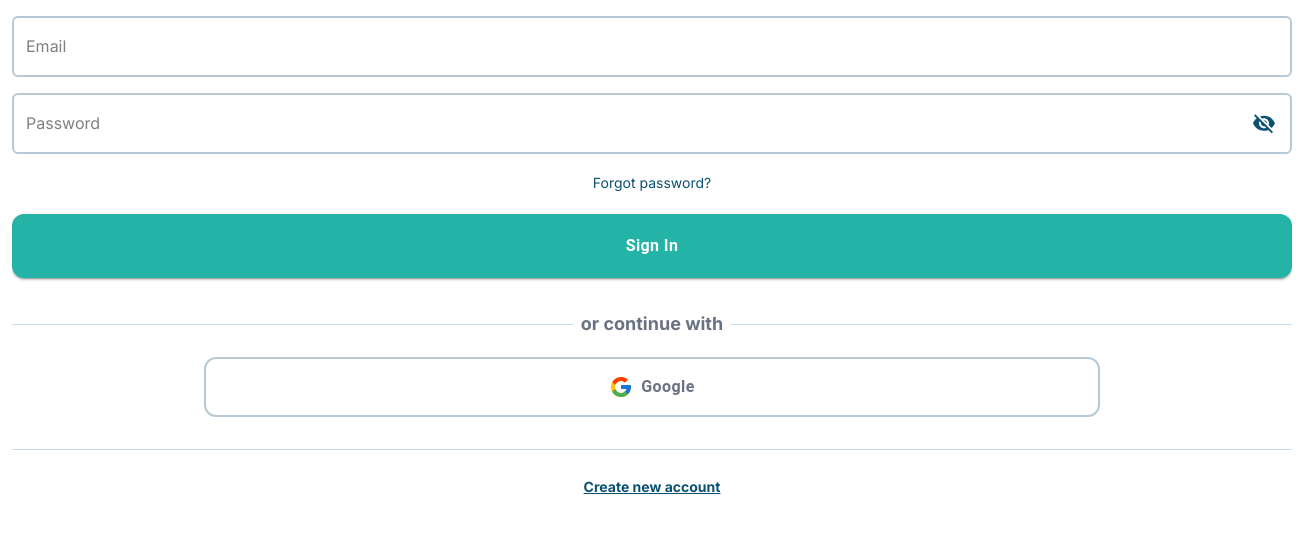
Test: SignInForm Component › Sign In Flow › shows error when sign in fails due to unknown error
Type "test@example.com" into the field with placeholder "Email" at (652, 46), box [12, 16, 1292, 77]
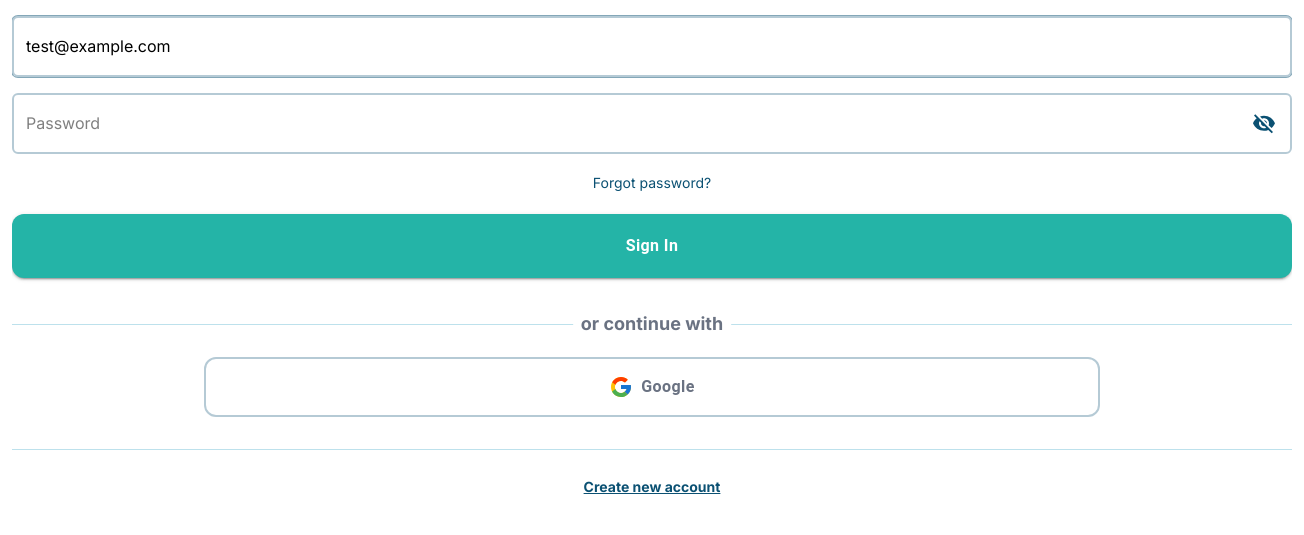
Type "password123" into the password field with placeholder "Password" at (652, 123), box [12, 93, 1292, 154]
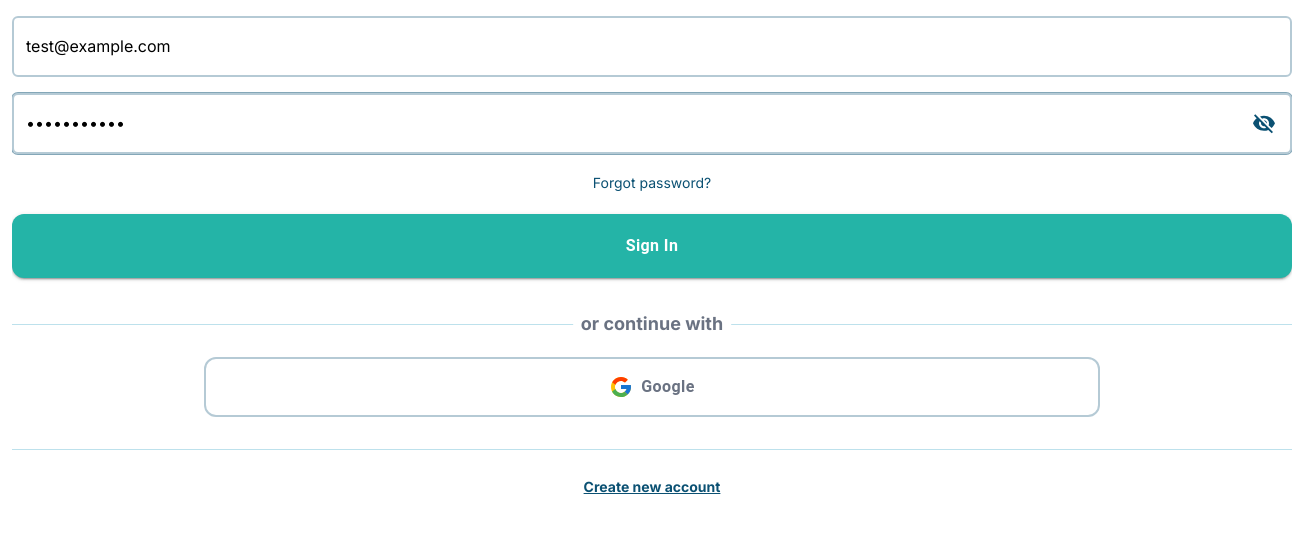
Click the button "Sign In" at (652, 246), box [12, 214, 1292, 278]
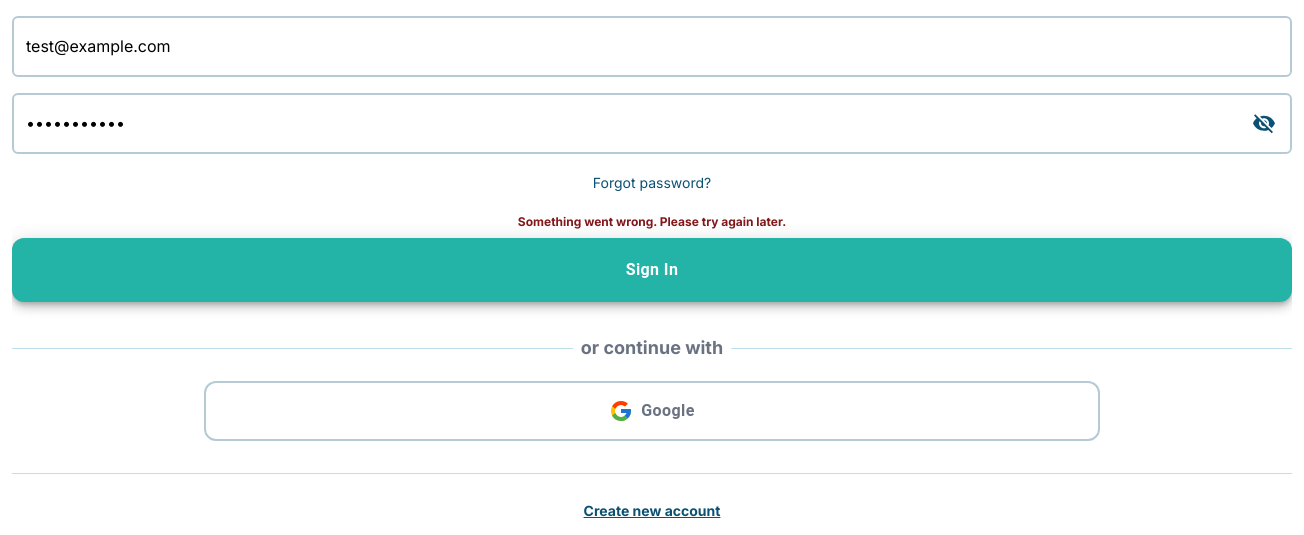
Result: the text "Something went wrong. Please try again later." is shown at [518, 214, 786, 229]
